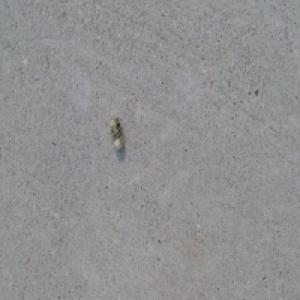BoltNutSet: (109, 118, 125, 153)
